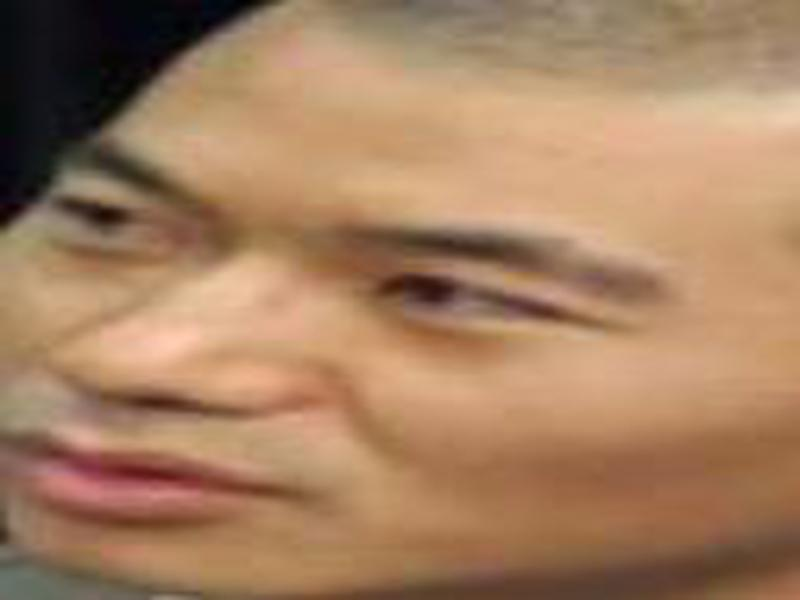without_mask: (4, 31, 800, 600)
